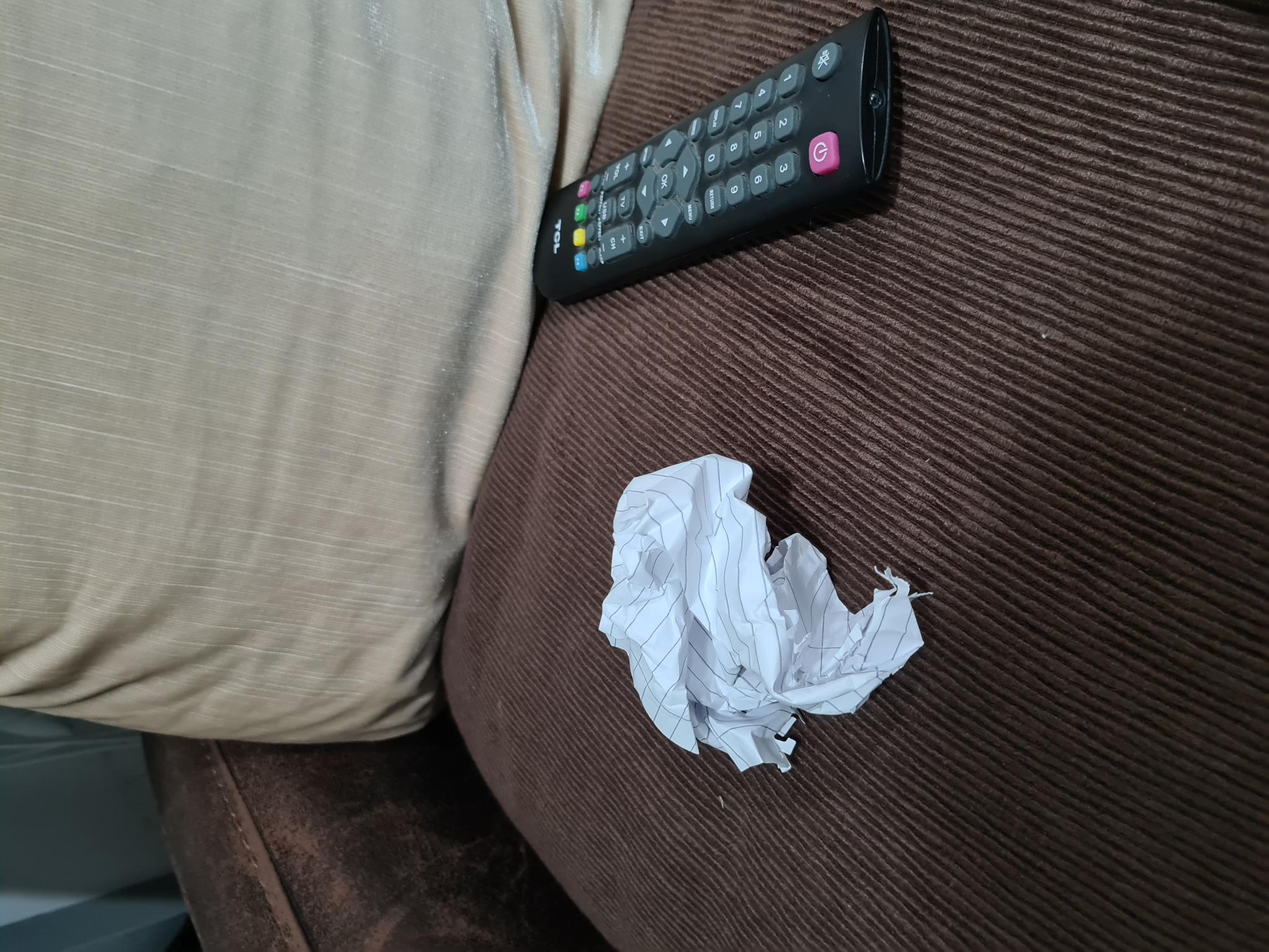Kertas: (196, 599, 495, 930)
